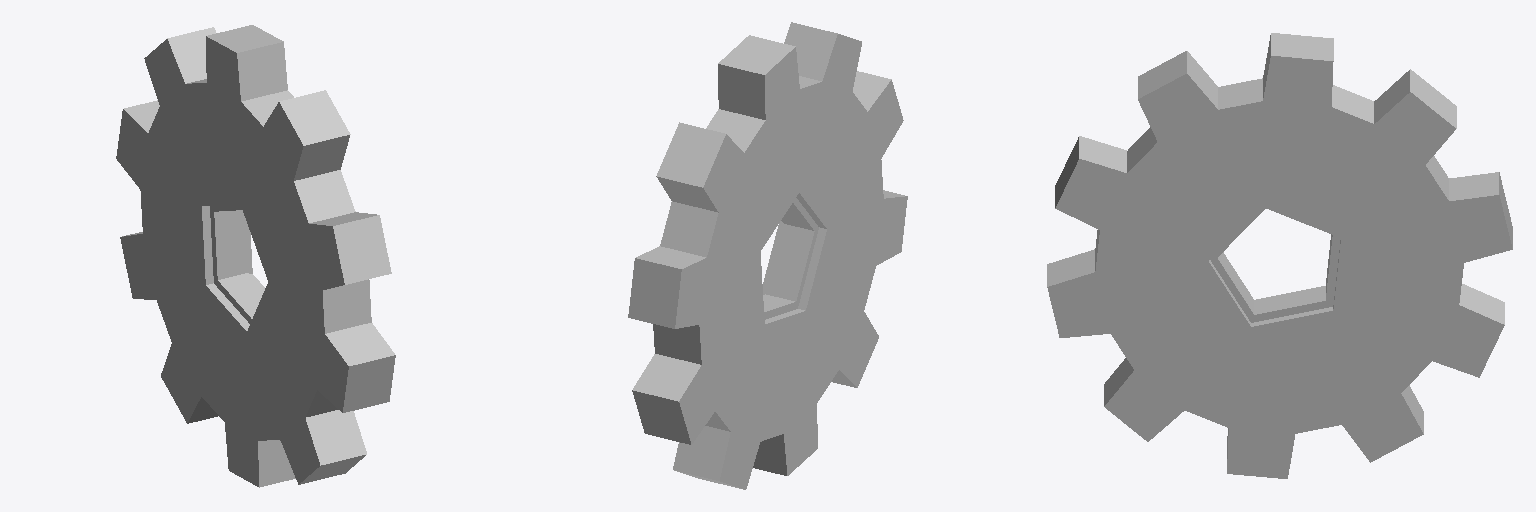
Rendered from Gear_small.obj.
3 views of the same model, side by side, from view 1: azimuth 30°, elevation 25°; view 2: azimuth 150°, elevation 25°; view 3: azimuth 270°, elevation 25° (orthographic).
Visible parts, largest first — view 1: Gear_System_Unwrapped1:default1; view 2: Gear_System_Unwrapped1:default1; view 3: Gear_System_Unwrapped1:default1.
Boxes of the visible parts, x1=… form: Gear_System_Unwrapped1:default1: x1=116, y1=25, x2=395, y2=487; Gear_System_Unwrapped1:default1: x1=628, y1=22, x2=907, y2=489; Gear_System_Unwrapped1:default1: x1=1047, y1=33, x2=1512, y2=478.
Size of the model in its own units: 3.23 by 27.86 by 27.74.